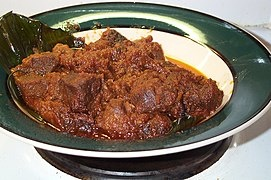rendang: (17, 42, 215, 129)
